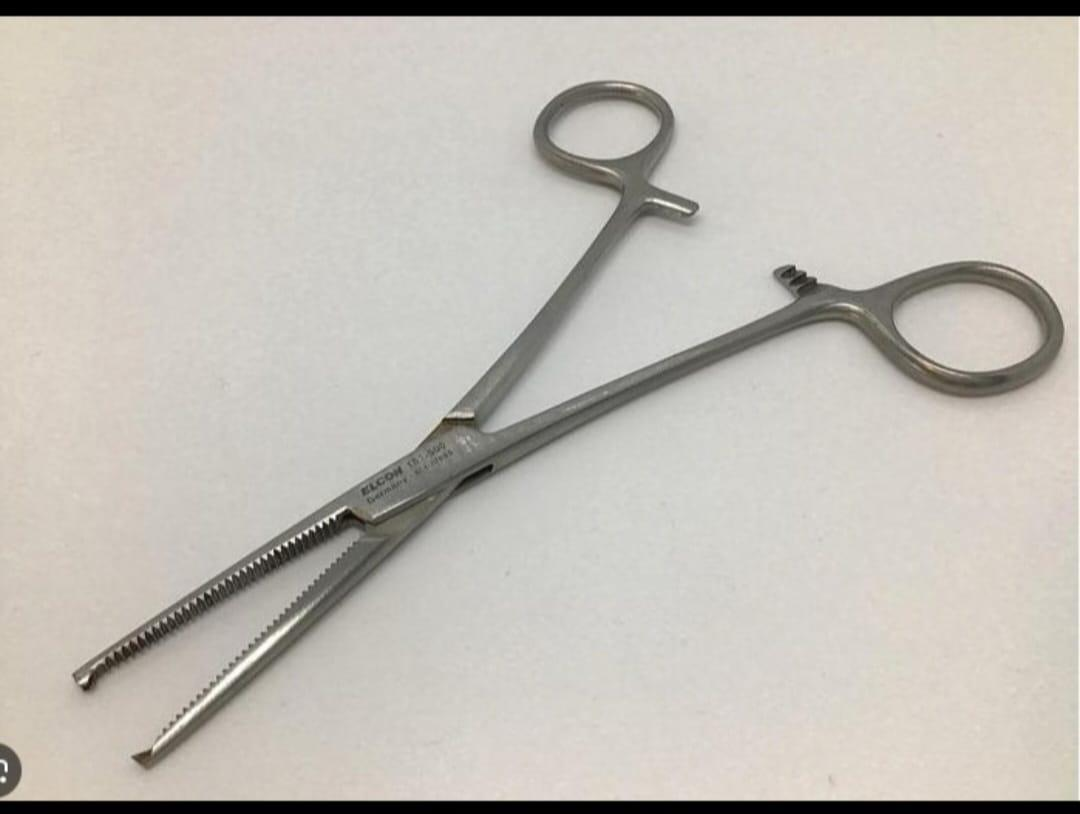Kocher Forceps: (71, 81, 1069, 770)
